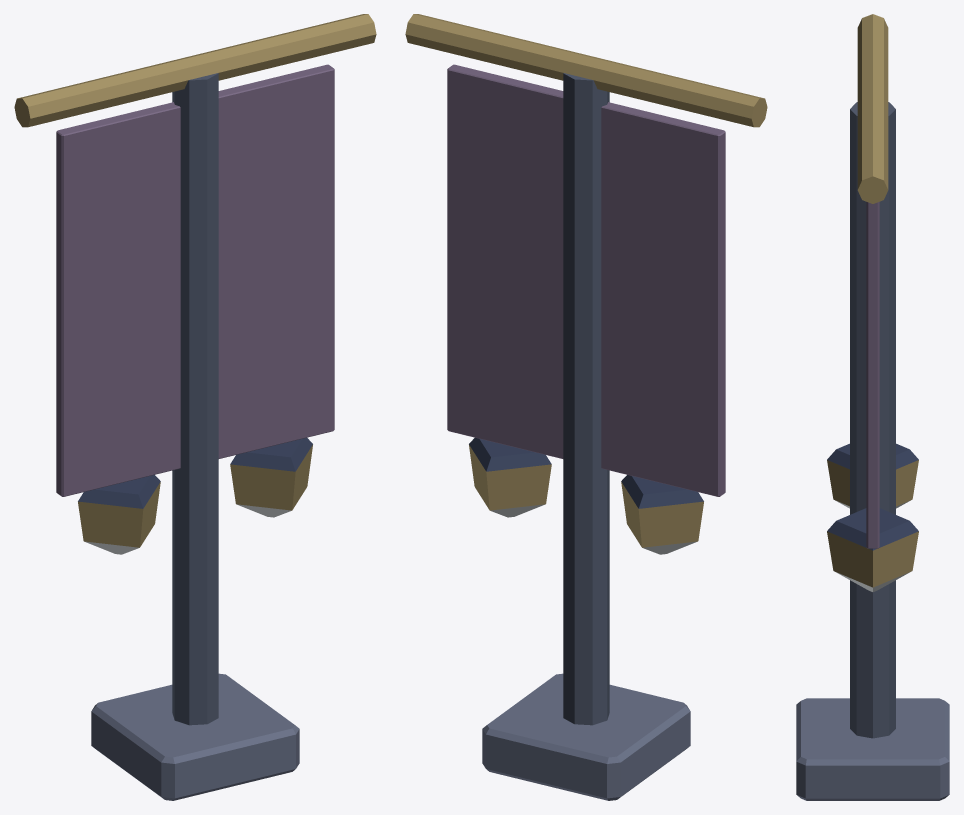
Rendered from banner-forked.glb.
3 views of the same model, side by side, from view 1: azimuth 30°, elevation 25°; view 2: azimuth 150°, elevation 25°; view 3: azimuth 270°, elevation 25° (orthographic). The views are drawn at different scales.
Parts seen in each view (by area): view 1: banner-forked__body; view 2: banner-forked__body; view 3: banner-forked__body.
Part boxes in pixels (bbox=[...]): banner-forked__body: bbox=[14, 14, 376, 800]; banner-forked__body: bbox=[405, 14, 767, 800]; banner-forked__body: bbox=[796, 14, 949, 800].
Bounding box in the file's own units: 1 × 1.94 × 0.4.
